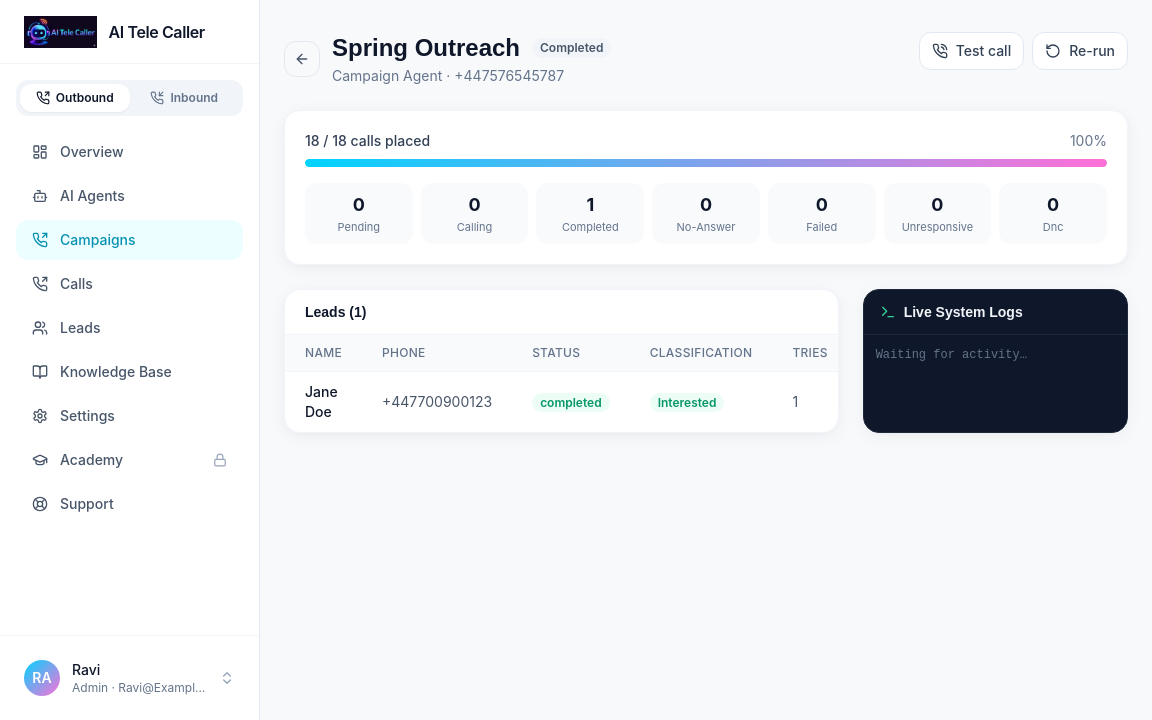
re-running a finished campaign › shows how many leads each choice would re-dial before you agree
The width and height of the screenshot is (1152, 720).
Click the button "Re-run". click: [1080, 51]
box: top-left (1032, 32), bottom-right (1128, 70)
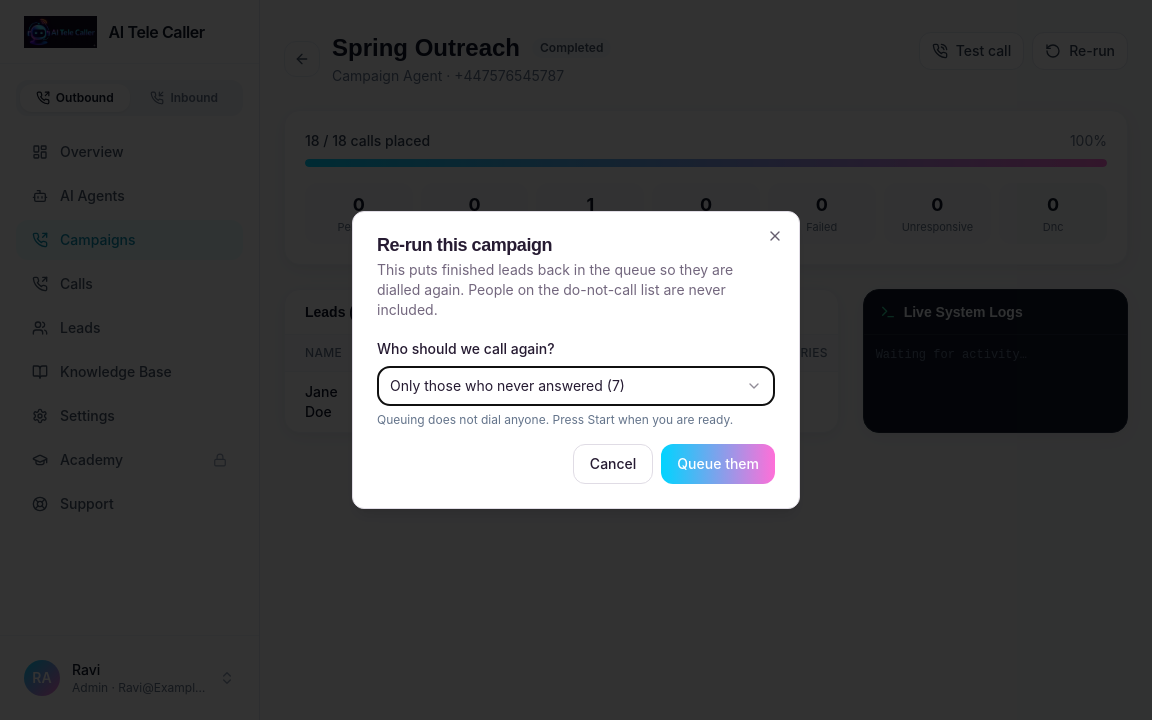
expect the text "Only those who never answered (7)" is shown: met, box top-left (390, 376), bottom-right (625, 396)
